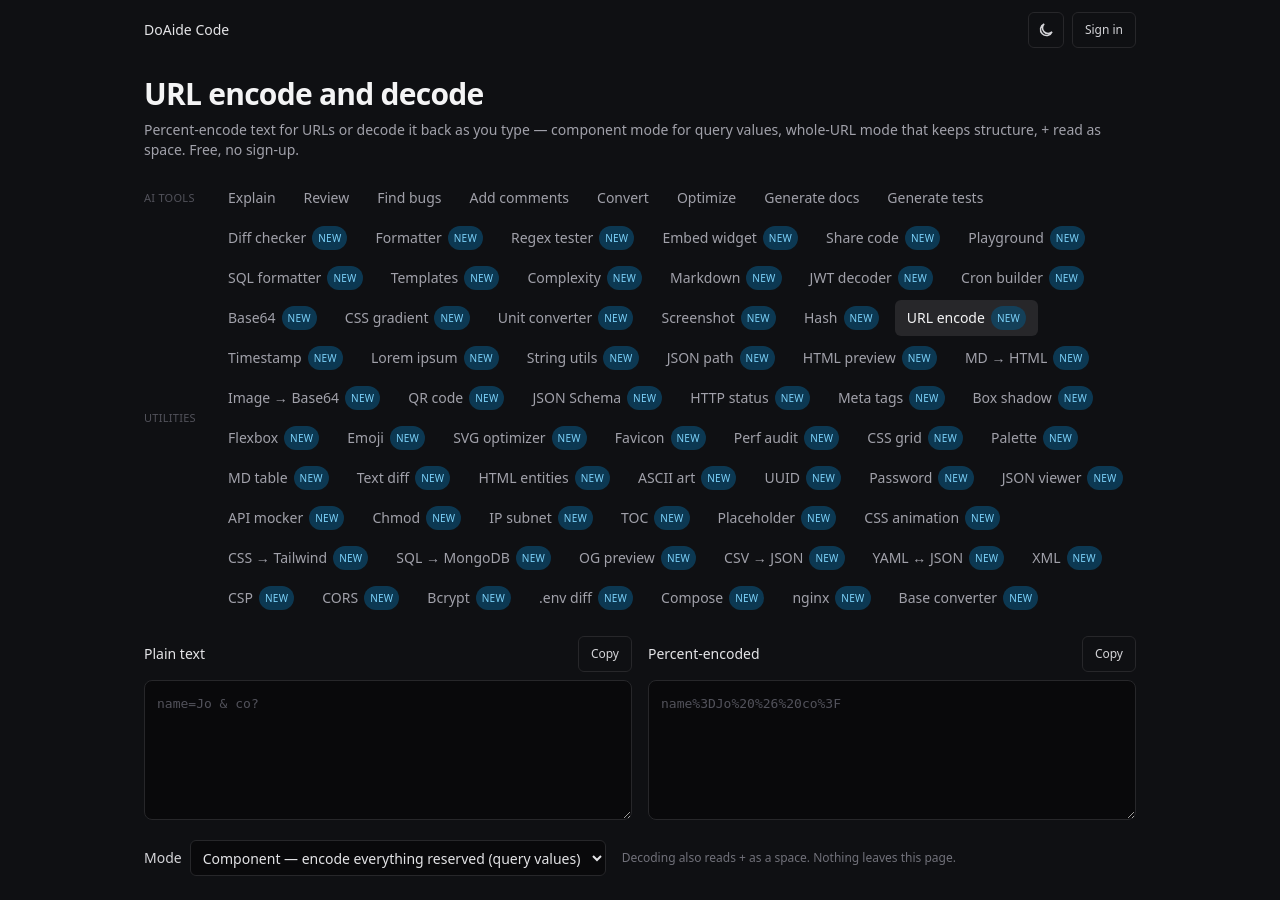
Scenario: UrlPage › encodes as you type in component mode
Expected: the heading reads "URL encode and decode", [144,73,484,114]
In the text box with test id "url-plain": (388, 750) [144,680,632,820], type "a&b c"
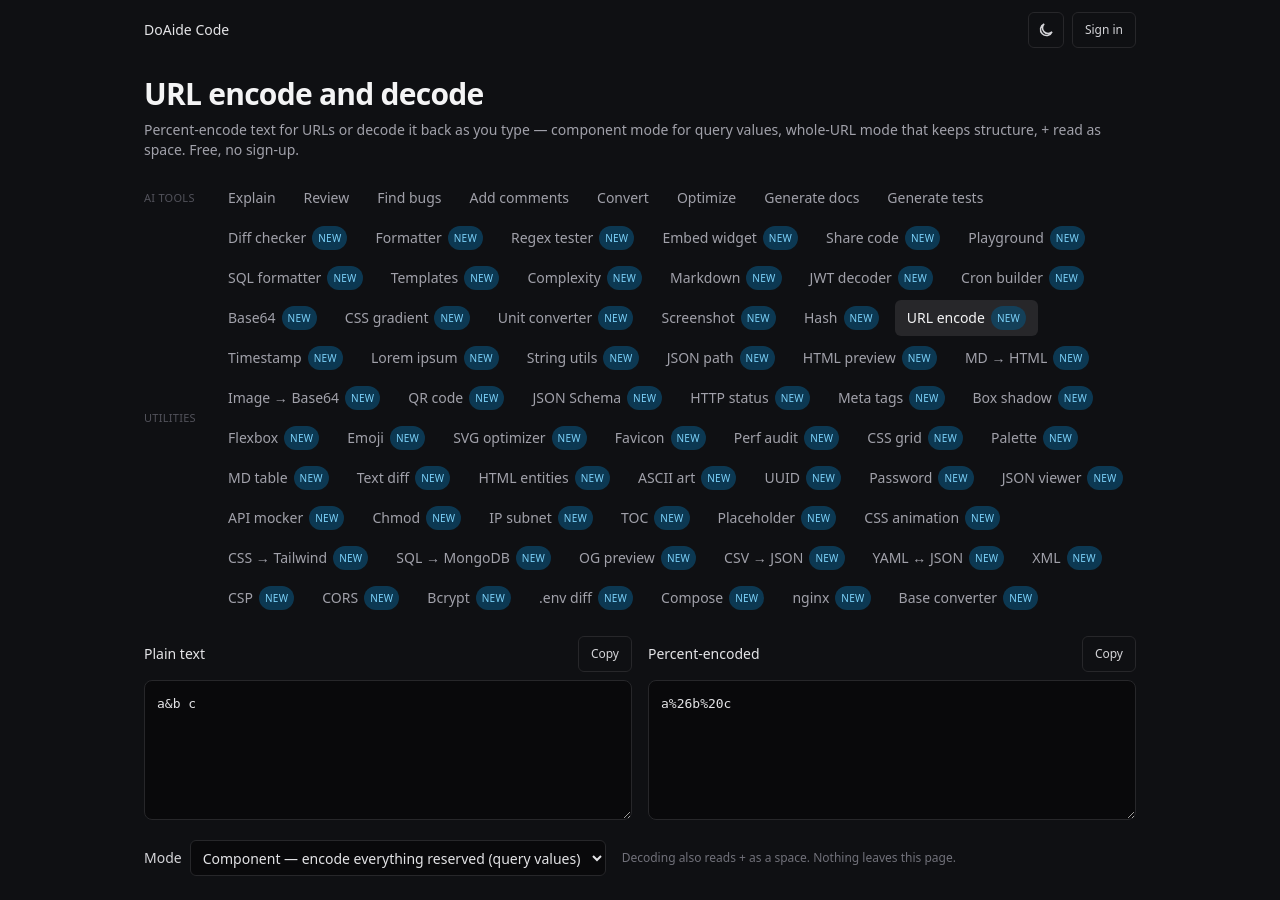
Now the text box with test id "url-encoded" holds "a%26b%20c", box [648,680,1136,820]
